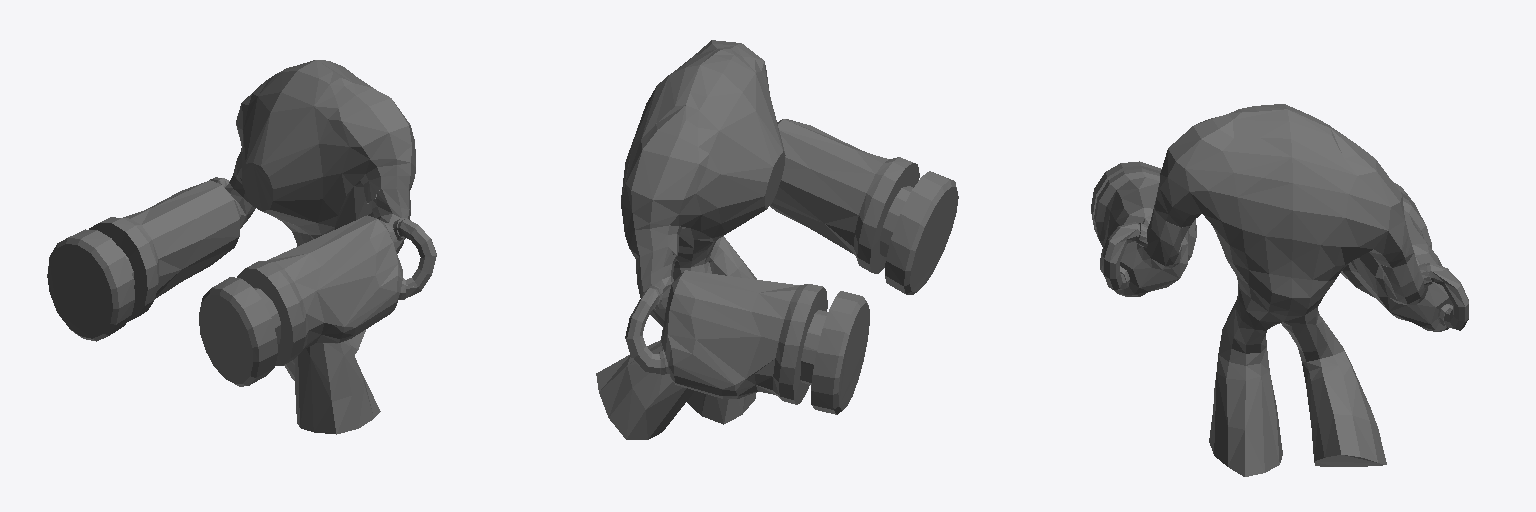
Rendered from robot.obj.
3 renders of one model, left to right at view 1: azimuth 30°, elevation 25°; view 2: azimuth 150°, elevation 25°; view 3: azimuth 270°, elevation 25°, orthographic.
Parts seen in each view (by area): view 1: DrawCall_104.001; view 2: DrawCall_104.001; view 3: DrawCall_104.001.
Boxes of the visible parts, x1=… form: DrawCall_104.001: x1=47, y1=60, x2=436, y2=434; DrawCall_104.001: x1=596, y1=40, x2=958, y2=439; DrawCall_104.001: x1=1091, y1=104, x2=1468, y2=476.
Size of the model in its own units: 3.84 by 4.62 by 4.45.